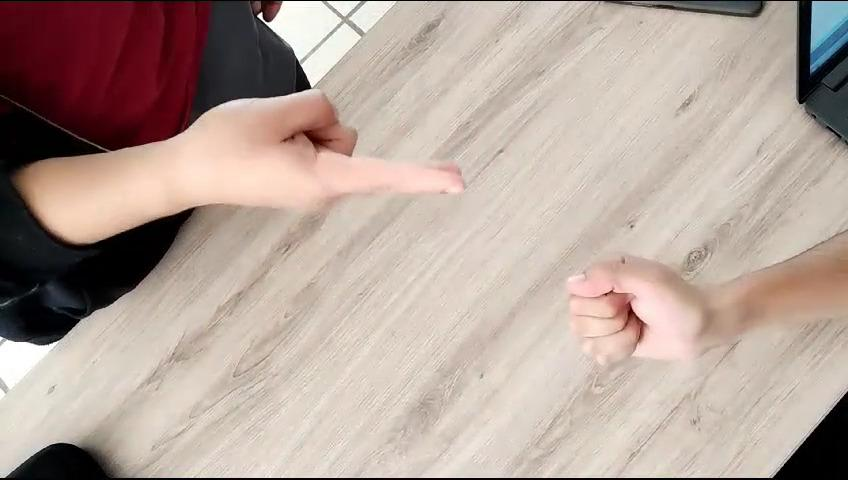Scissor: (172, 87, 475, 220)
Stone: (555, 244, 725, 380)
